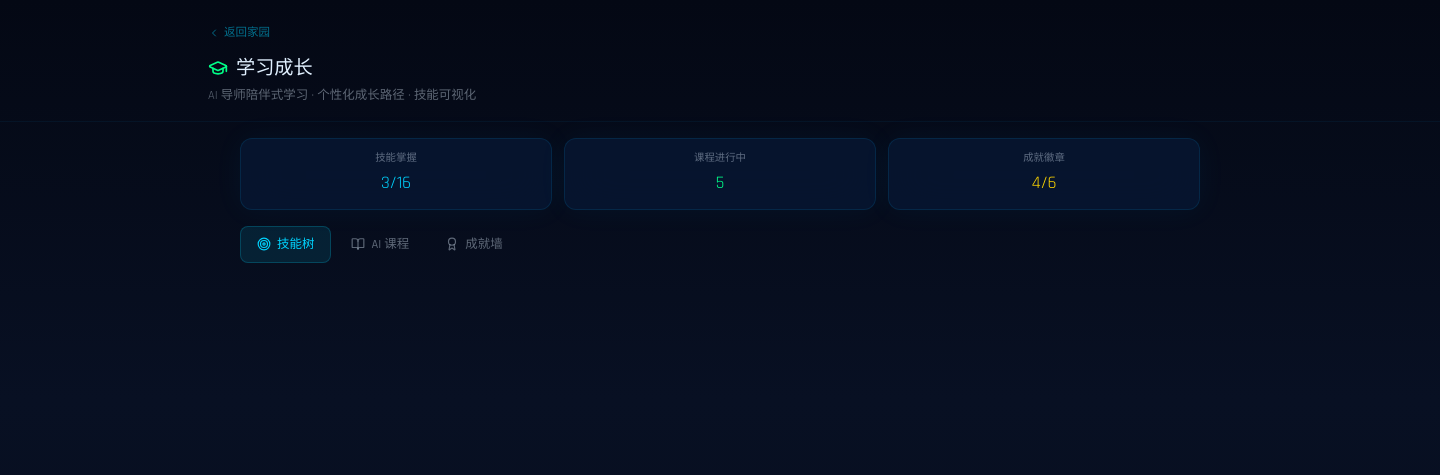
Scenario: ai-family/FamilyLearn › 切换成就墙 tab 应渲染 6 枚徽章且 4 枚已获得
Click the button "成就墙".
click(474, 244)  # box [429,226,519,262]
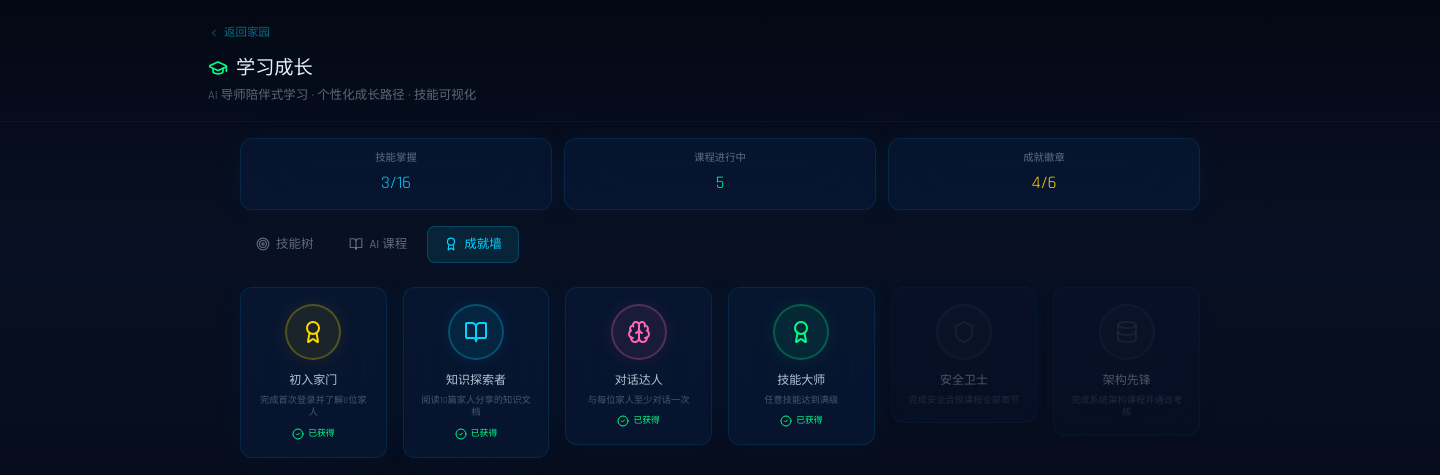
Result: the text "初入家门" is shown at [289,372,337,388]
Result: the text "知识探索者" is shown at [446,372,506,388]
Result: the text "对话达人" is shown at [615,372,663,388]
